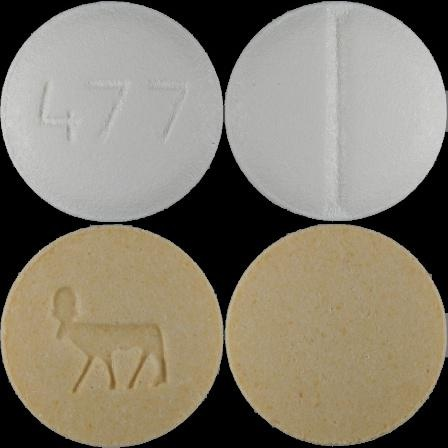55154-4564: (0, 0, 224, 224)
